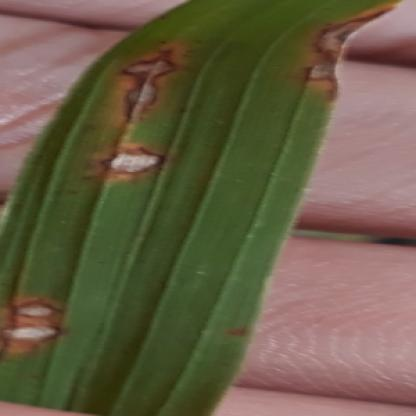Rice blast: (292, 1, 390, 100), (100, 31, 200, 126), (78, 133, 179, 184), (1, 294, 76, 353)
